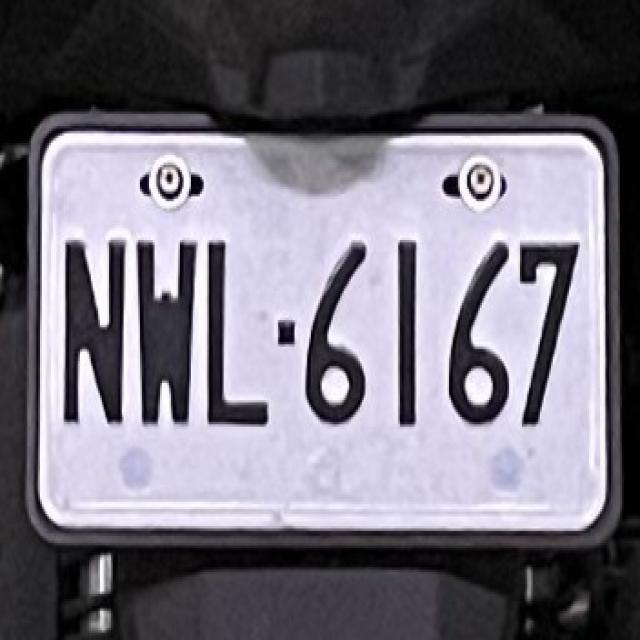license-plate: (28, 105, 626, 542)
